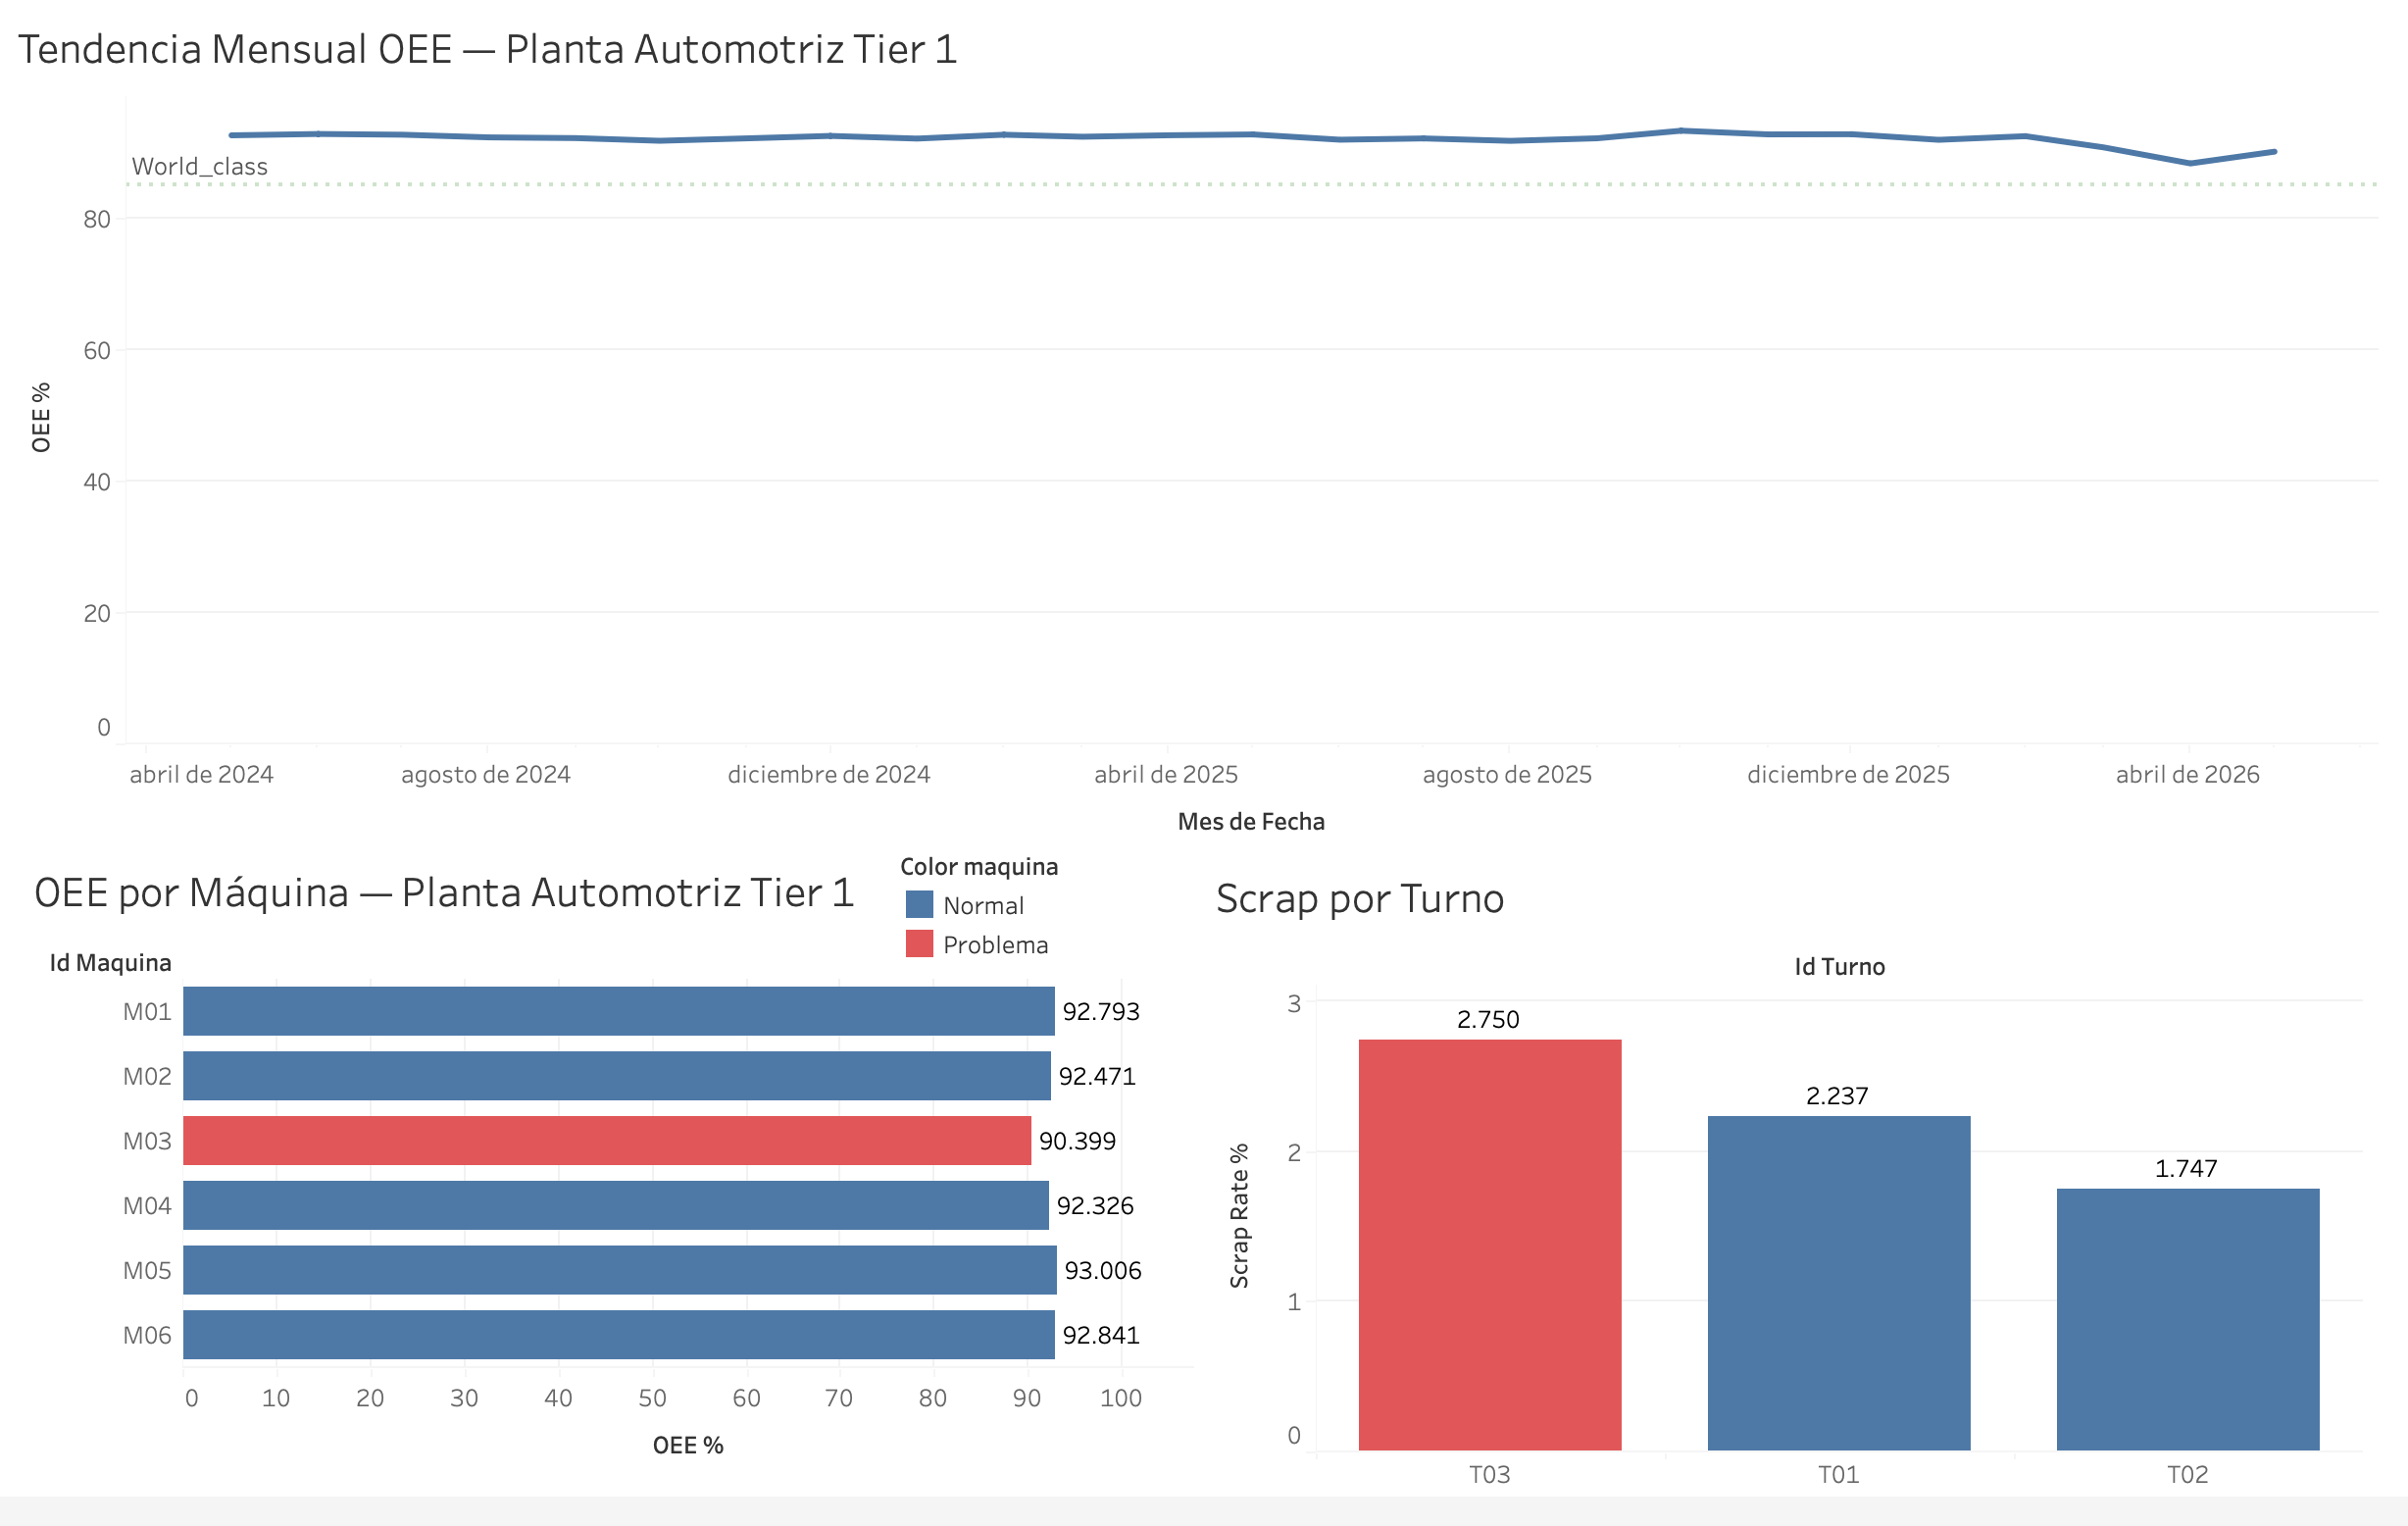

Layout of this report page (visuals, bound fields, positions):
{"tool":"tableau","page":{"name":"Dashboard Automotriz","canvas":[1366,768],"ordinal":0},"visuals":[{"type":"worksheet","title":"Tendencia OEE","mark":"Automatic","rows":["Calculation_1769941597126668"],"cols":["fecha"],"box":[7,11,1208,428]},{"type":"legend","title":"OEE por Máquina — Planta Automotriz Tier 1","param":"[federated.0navznc0wsv6eu1aaaszp0yirqy5].[none:Calculation_1769941597900813:nk]","box":[461,438,119,64]},{"type":"worksheet","title":"OEE por Máquina — Planta Automotriz Tier 1","mark":"Automatic","rows":["id_maquina"],"cols":["Calculation_1769941597126668"],"box":[15,441,596,319]},{"type":"worksheet","title":"Scrap por Turno","mark":"Automatic","rows":["Calculation_1769941561524226"],"cols":["id_turno"],"box":[618,444,589,322]}]}

Visuals, with their boxes on the page's 1366x768 design canvas (x1, y1, x2, y2). These are canvas units, not pixel positions in the 2408x1526 screenshot, which may show the page scaled, cropped or inside an application window:
"Tendencia OEE" worksheet: bbox=[7, 11, 1215, 439]
"OEE por Máquina — Planta Automotriz Tier 1" legend: bbox=[461, 438, 580, 502]
"OEE por Máquina — Planta Automotriz Tier 1" worksheet: bbox=[15, 441, 611, 760]
"Scrap por Turno" worksheet: bbox=[618, 444, 1207, 766]
